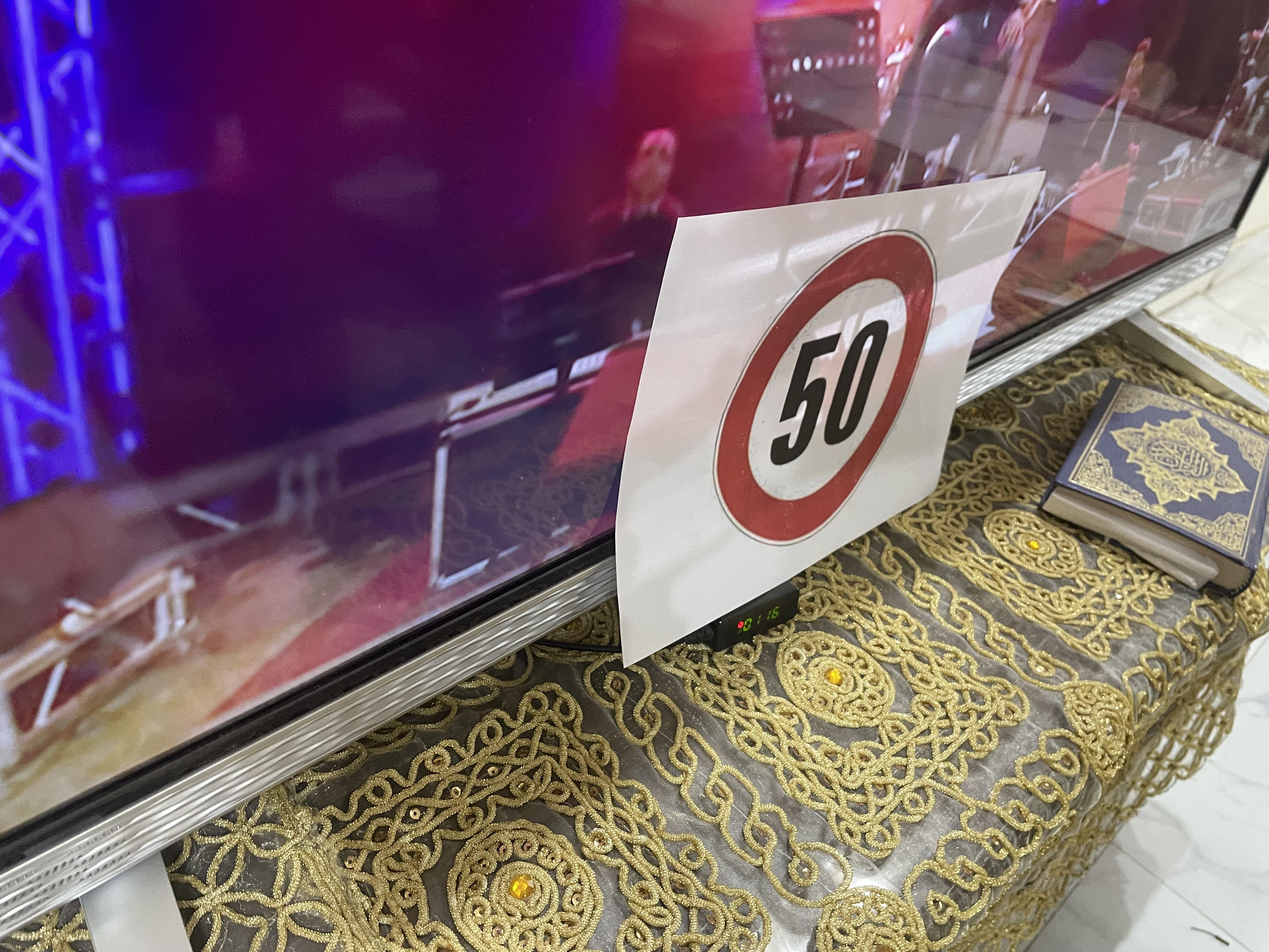50-Speed: (716, 236, 932, 545)
